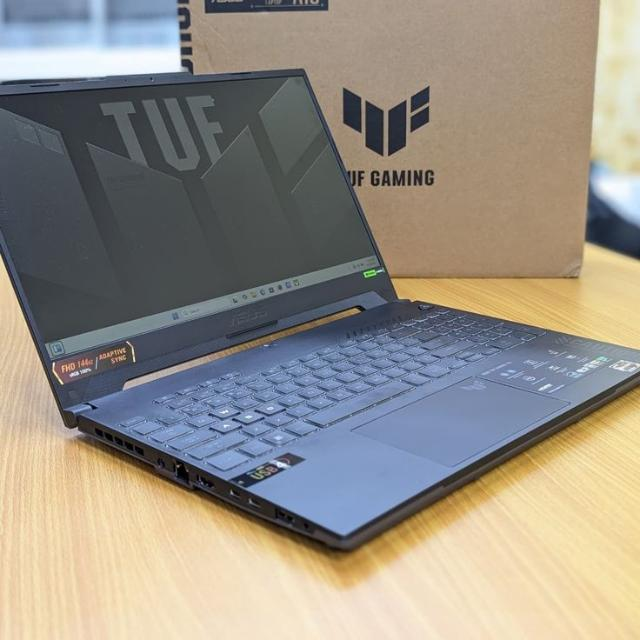laptop: (4, 68, 622, 558)
